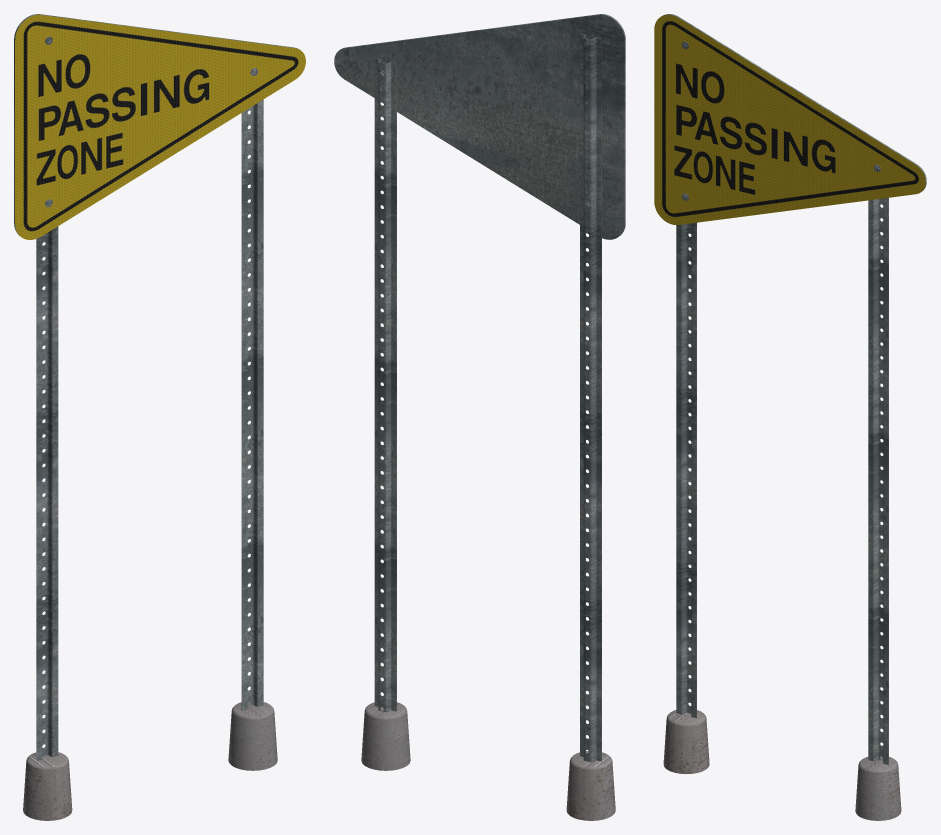
The model's file is nopassingzone_nsoc.obj.
3 renders of one model, left to right at view 1: azimuth 30°, elevation 25°; view 2: azimuth 150°, elevation 25°; view 3: azimuth 330°, elevation 25°, orthographic. The views are drawn at different scales.
Visible parts, largest first — view 1: sign_no_passing_zone01; view 2: sign_no_passing_zone01; view 3: sign_no_passing_zone01.
Boxes of the visible parts, x1,y1,x2,y2 form: sign_no_passing_zone01: [14, 14, 305, 820]; sign_no_passing_zone01: [334, 14, 625, 820]; sign_no_passing_zone01: [654, 14, 926, 820].
Size of the model in its own units: 39.77 by 105 by 5.84.
3 materials, 3 textured.
